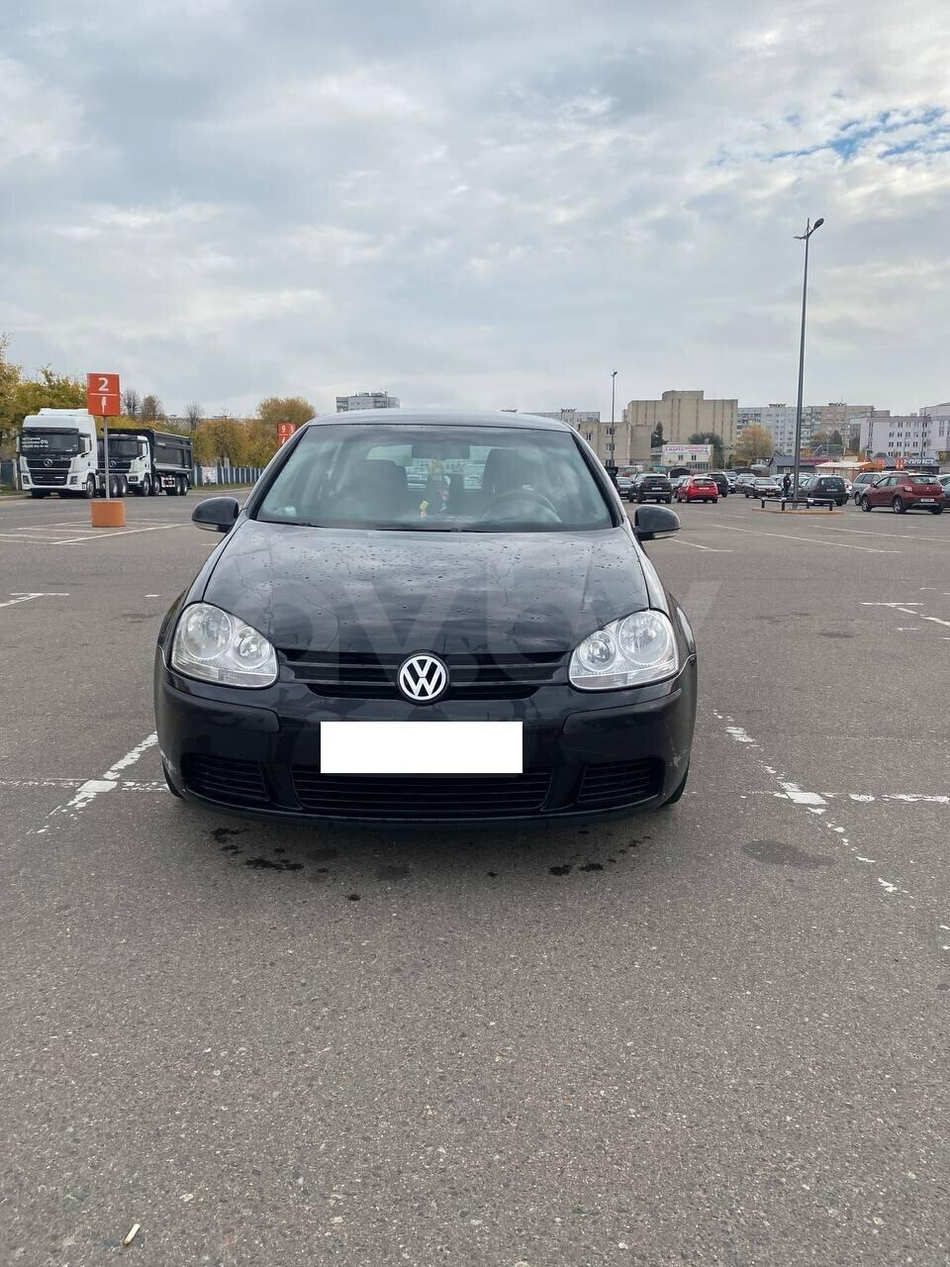Golf_2003-2009: (156, 401, 707, 831)
